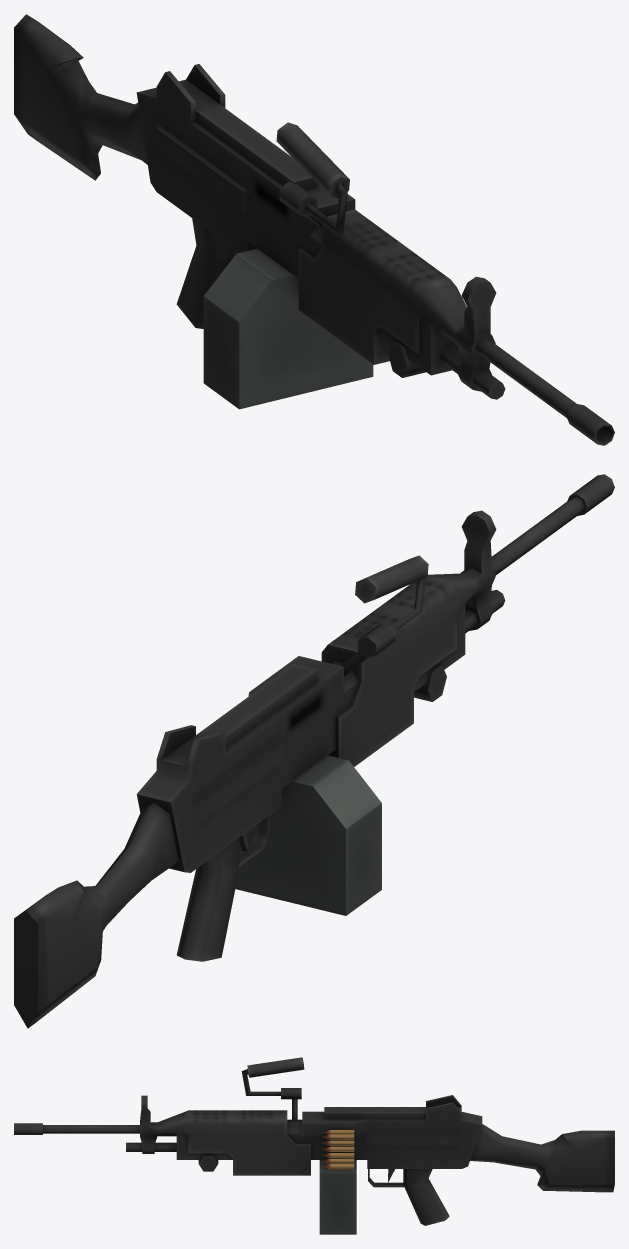
3 renders of one model, top to bottom at view 1: azimuth 30°, elevation 25°; view 2: azimuth 150°, elevation 25°; view 3: azimuth 270°, elevation 25°, orthographic. The views are drawn at different scales.
Parts seen in each view (by area): view 1: M249; view 2: M249; view 3: M249.
Boxes of the visible parts, x1,y1,x2,y2 form: M249: (14, 14, 614, 445); M249: (14, 474, 614, 1028); M249: (14, 1057, 614, 1234).
Bounding box in the file's own units: 13.71 × 29.47 × 103.
